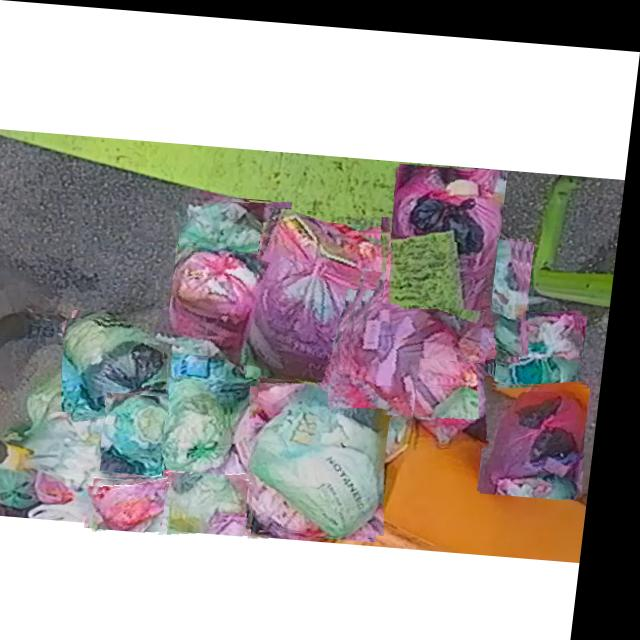general_trashbag: (261, 373, 393, 529), (72, 315, 177, 413), (504, 303, 586, 397), (170, 374, 238, 472), (185, 195, 289, 258), (171, 468, 258, 526), (489, 229, 531, 347), (114, 392, 175, 469)
other_trashbag: (257, 204, 394, 377), (354, 266, 484, 411), (396, 163, 505, 301), (492, 375, 592, 485), (176, 244, 265, 359), (423, 354, 501, 438), (103, 472, 178, 528)
